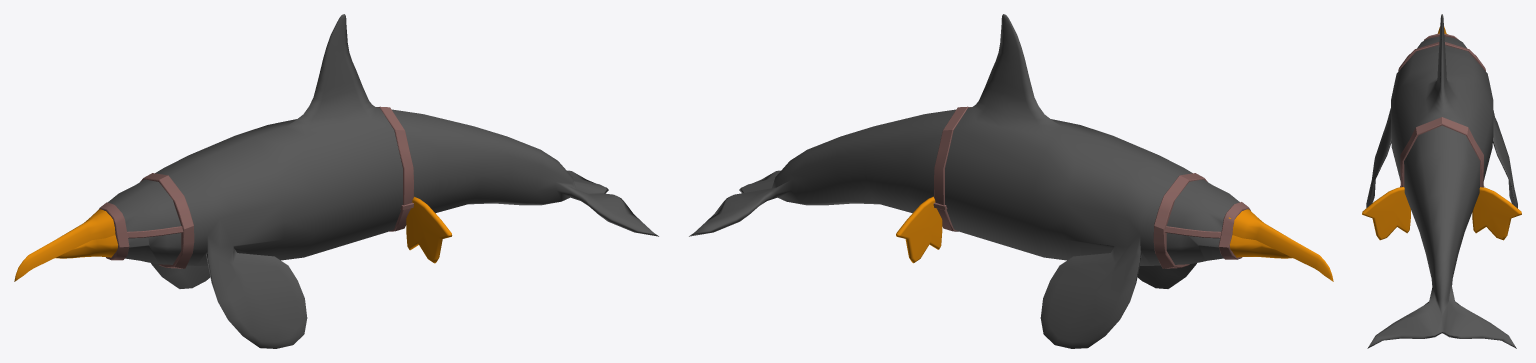
Rendered from Penguin orca.fbx.
3 renders of one model, left to right at view 1: azimuth 30°, elevation 25°; view 2: azimuth 150°, elevation 25°; view 3: azimuth 270°, elevation 25°, orthographic. The views are drawn at different scales.
Parts seen in each view (by area): view 1: Penguin_orca; view 2: Penguin_orca; view 3: Penguin_orca.
Boxes of the visible parts, x1,y1,x2,y2 form: Penguin_orca: (14, 14, 658, 348); Penguin_orca: (689, 14, 1333, 348); Penguin_orca: (1362, 14, 1521, 348).
Size of the model in its own units: 16.48 by 7.26 by 4.42.
